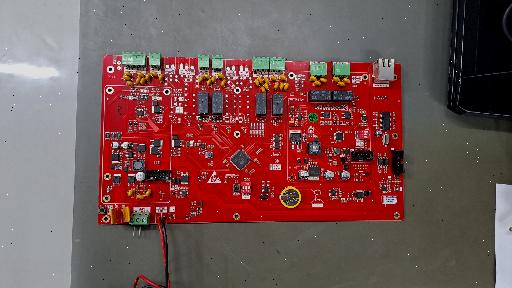var: (121, 206, 130, 223), (110, 207, 117, 224), (145, 188, 152, 197), (128, 189, 135, 197), (273, 82, 279, 91), (136, 76, 141, 86), (137, 72, 145, 78), (151, 71, 159, 77), (313, 80, 321, 86), (158, 74, 164, 82), (125, 71, 133, 77), (123, 75, 131, 81), (332, 76, 340, 82), (309, 76, 317, 82), (140, 77, 146, 85), (283, 82, 289, 90), (271, 75, 279, 81), (257, 77, 263, 85), (211, 75, 216, 84), (264, 82, 269, 91), (136, 194, 145, 199), (204, 73, 211, 79), (217, 73, 224, 79), (279, 75, 286, 81), (254, 78, 260, 85), (221, 79, 226, 87), (126, 81, 134, 86), (145, 73, 150, 81), (207, 79, 212, 87), (319, 78, 327, 83), (342, 78, 350, 83), (279, 82, 284, 90), (337, 81, 345, 86), (264, 77, 269, 84), (261, 86, 266, 93), (199, 75, 203, 83)
